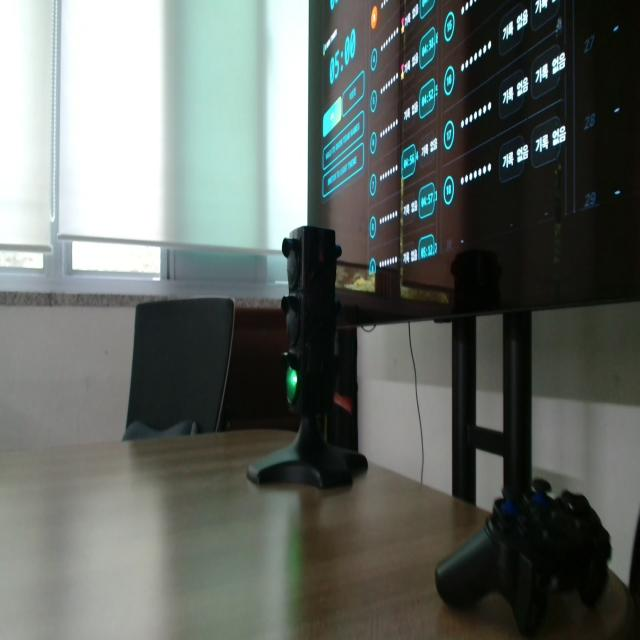green_light: (286, 367, 298, 404)
